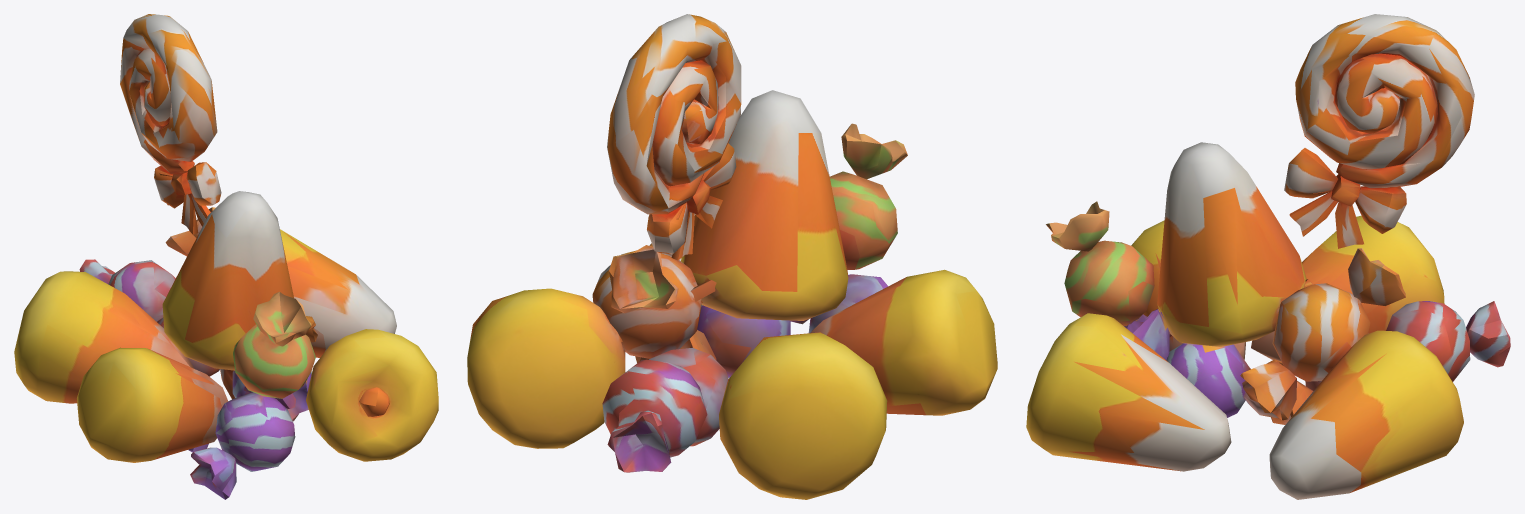
Rendered from H7_CandyCornPile_LOD2.fbx.
3 renders of one model, left to right at view 1: azimuth 30°, elevation 25°; view 2: azimuth 150°, elevation 25°; view 3: azimuth 270°, elevation 25°, orthographic. The views are drawn at different scales.
Parts seen in each view (by area): view 1: H7_CandyCornPile_LOD2; view 2: H7_CandyCornPile_LOD2; view 3: H7_CandyCornPile_LOD2.
Boxes of the visible parts, box(x1,y1,x2,y2) form: H7_CandyCornPile_LOD2: box(14, 14, 438, 499); H7_CandyCornPile_LOD2: box(467, 14, 997, 499); H7_CandyCornPile_LOD2: box(1026, 14, 1510, 499).
Size of the model in its own units: 0.3175 by 0.3202 by 0.3368.
Materials: 1 (1 with a texture image).
